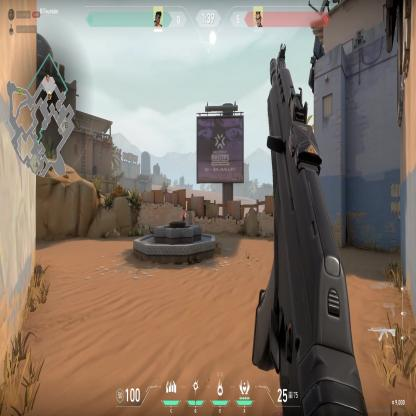enemy: (181, 208, 186, 223)
